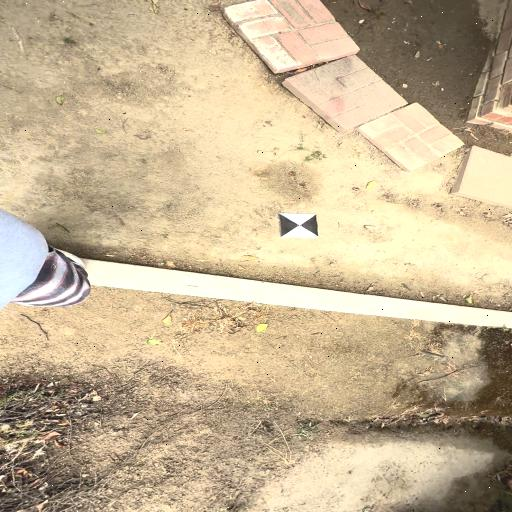target: (279, 213, 318, 237)
